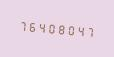eight: (57, 20, 66, 37)
four: (37, 18, 46, 36), (77, 21, 86, 39)
seven: (17, 16, 26, 34), (87, 22, 96, 40)
six: (27, 17, 36, 35)
zero: (67, 20, 76, 38), (47, 19, 56, 36)
